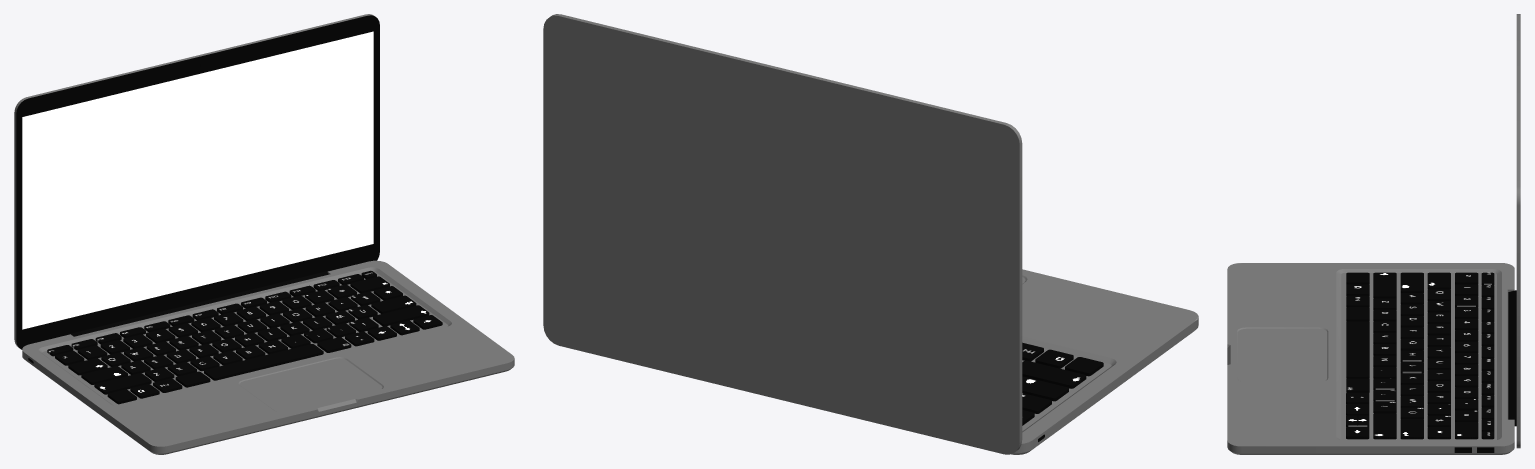
Rendered from laptop.c.glb.
The picture shows the model from 3 angles, left to right: view 1: azimuth 30°, elevation 25°; view 2: azimuth 150°, elevation 25°; view 3: azimuth 270°, elevation 25°; orthographic projection. The views are drawn at different scales.
Parts seen in each view (by area): view 1: Screen, Frame; view 2: Screen, Frame; view 3: Frame, Screen.
Part boxes in pixels (x1,y1,x2,y2): Screen: (14, 14, 379, 349); Frame: (22, 260, 514, 454); Screen: (543, 14, 1022, 454); Frame: (1011, 269, 1198, 454); Frame: (1227, 263, 1514, 454); Screen: (1508, 14, 1520, 448).
Bounding box in the file's own units: 0.304 × 0.2056 × 0.205.
Materials: 2 (2 with a texture image).
